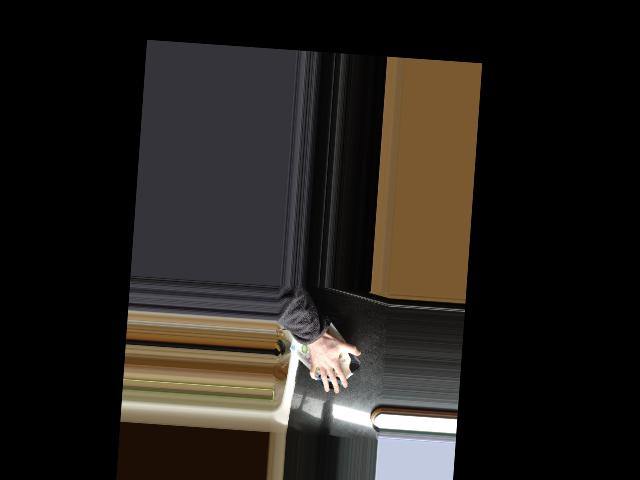cheese: (284, 314, 365, 394)
